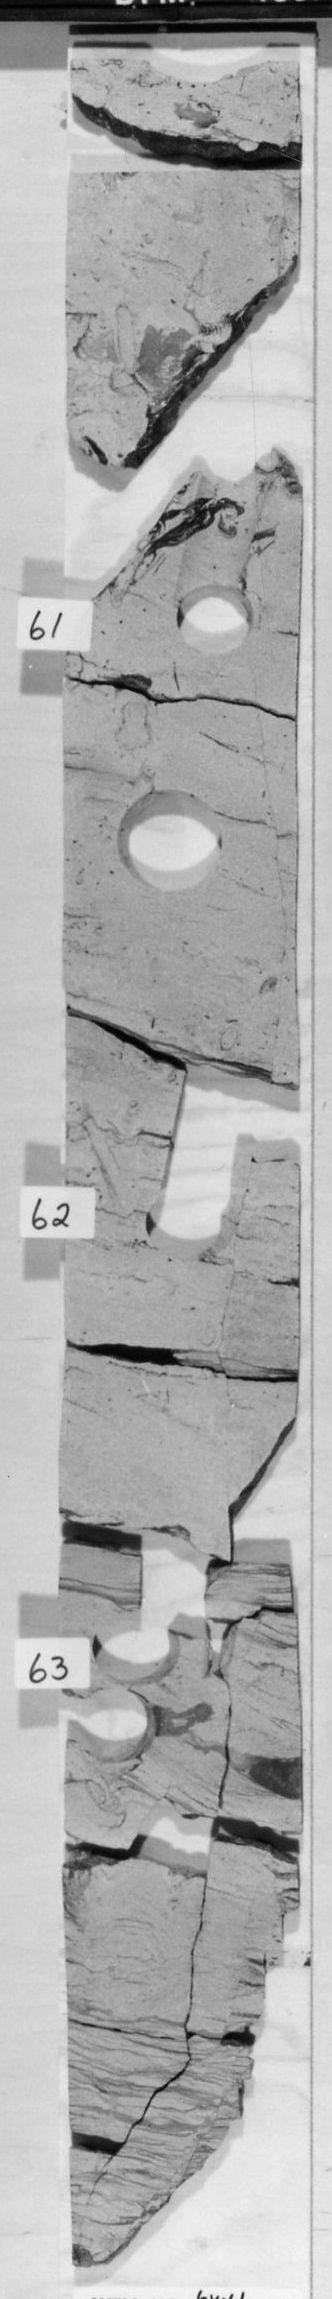hplug: (84, 1608, 195, 1691), (69, 1696, 173, 1778), (169, 591, 264, 660), (142, 1211, 247, 1270)
scal: (110, 777, 232, 902)
vplug: (154, 1053, 261, 1210), (176, 460, 279, 589)
